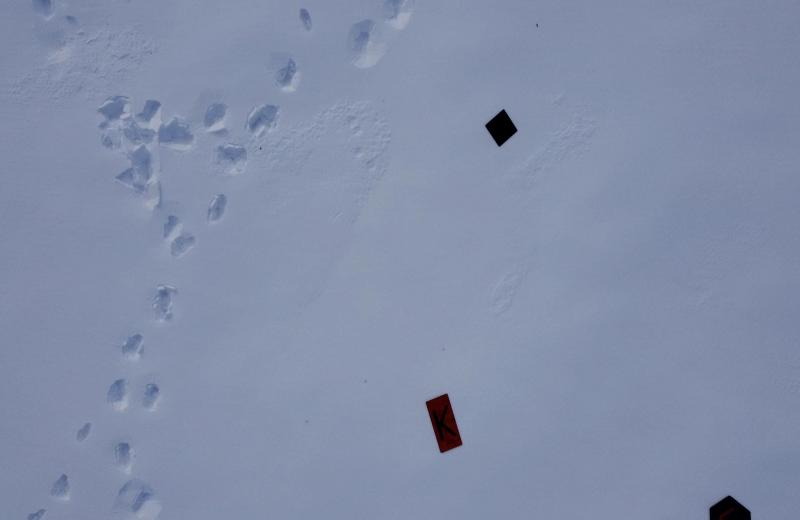Hexagon: (707, 494, 753, 520)
Rectangle: (424, 391, 464, 455)
Square: (486, 111, 519, 148)
